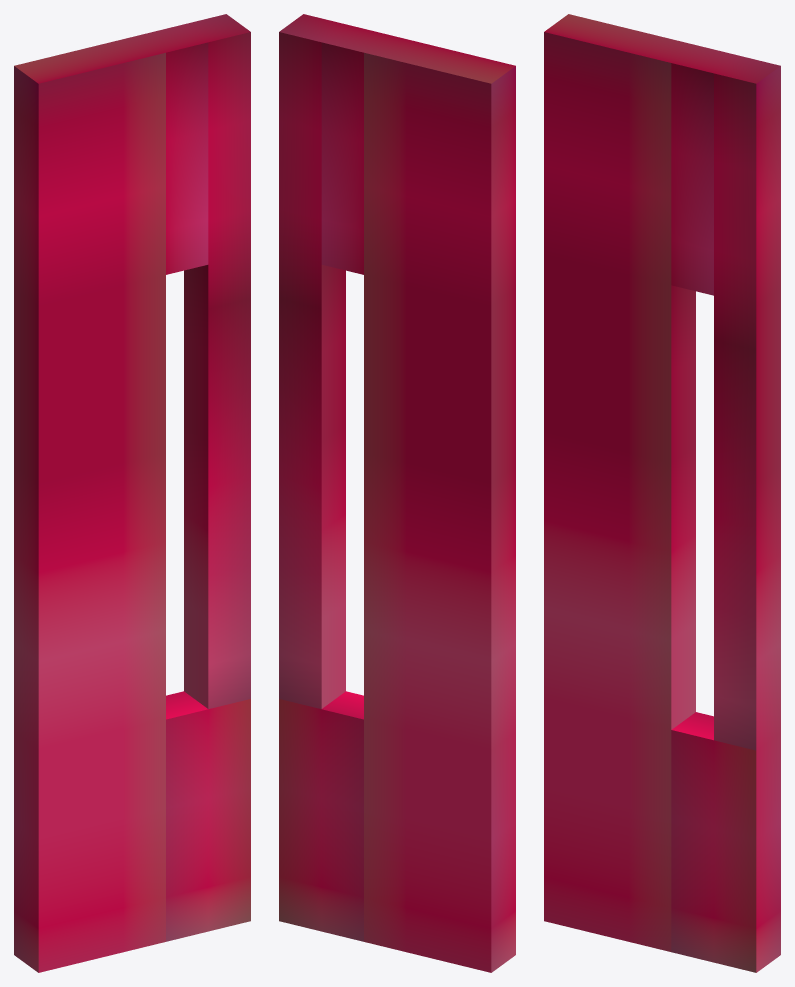
Rendered from BillboardModule_WeirdSymbol_C_00.fbx.
3 views of the same model, side by side, from view 1: azimuth 30°, elevation 25°; view 2: azimuth 150°, elevation 25°; view 3: azimuth 330°, elevation 25° (orthographic).
Visible parts, largest first — view 1: BillboardModule_WeirdSymbol_C_00; view 2: BillboardModule_WeirdSymbol_C_00; view 3: BillboardModule_WeirdSymbol_C_00.
Boxes of the visible parts, x1,y1,x2,y2 form: BillboardModule_WeirdSymbol_C_00: (14,14,250,972); BillboardModule_WeirdSymbol_C_00: (279,14,515,972); BillboardModule_WeirdSymbol_C_00: (544,14,780,972).
Bounding box in the file's own units: 25 × 100 × 5.
